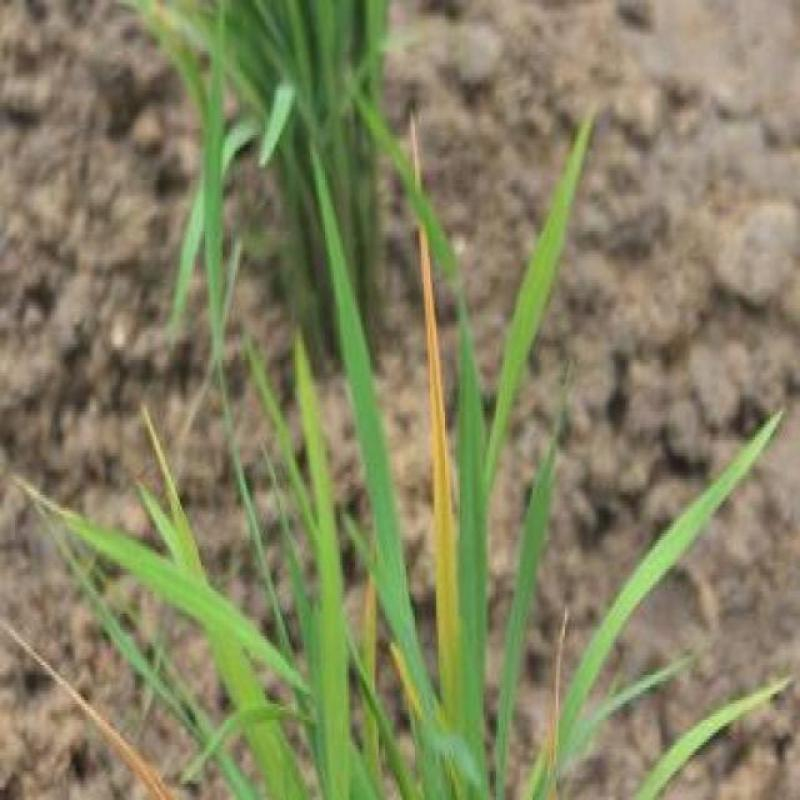Rice Tungro: (405, 178, 461, 518)
